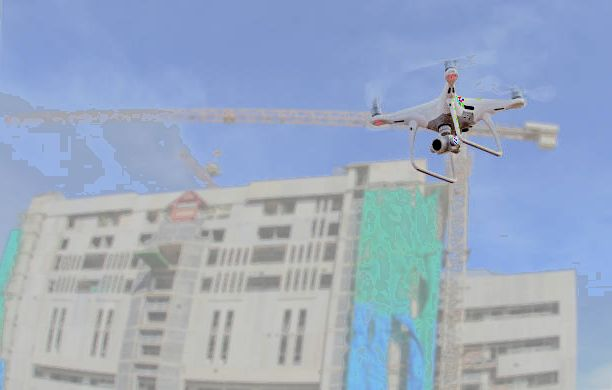Drone: (355, 53, 553, 189)
